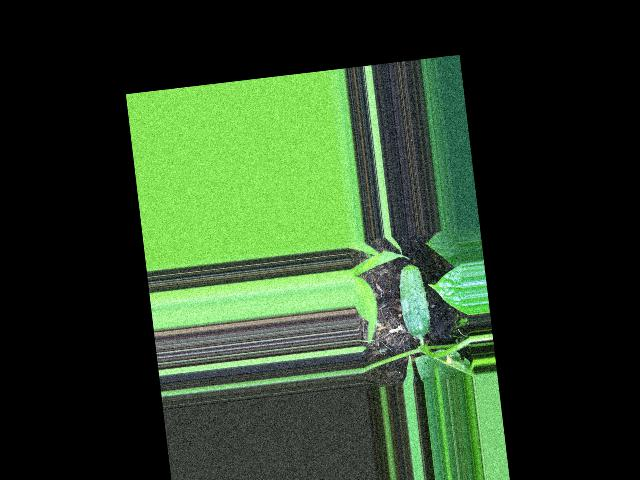cucumber: (395, 262, 431, 339)
